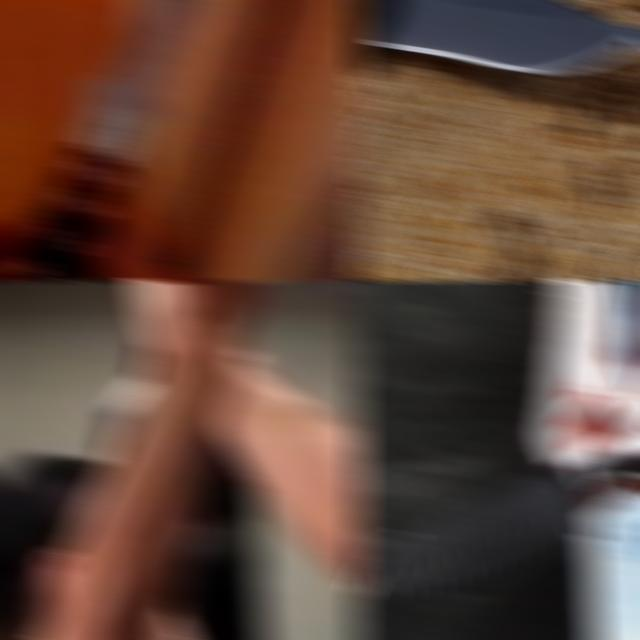Knife: (0, 0, 239, 282), (351, 394, 640, 616), (259, 280, 365, 348)
Knife_Handle: (351, 286, 640, 612), (128, 280, 365, 363)
